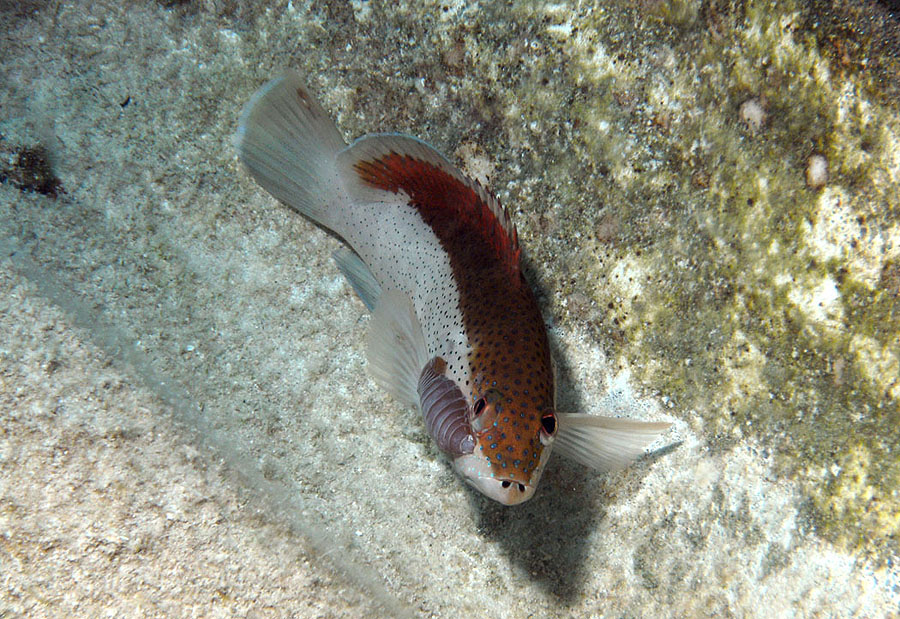Cephalopholis_fulvaw: (225, 56, 685, 516)
